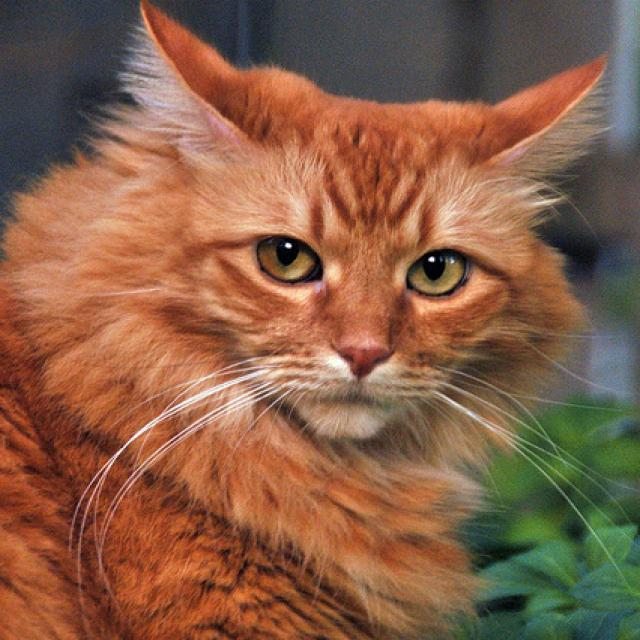Maine Coon: (0, 0, 613, 640)
